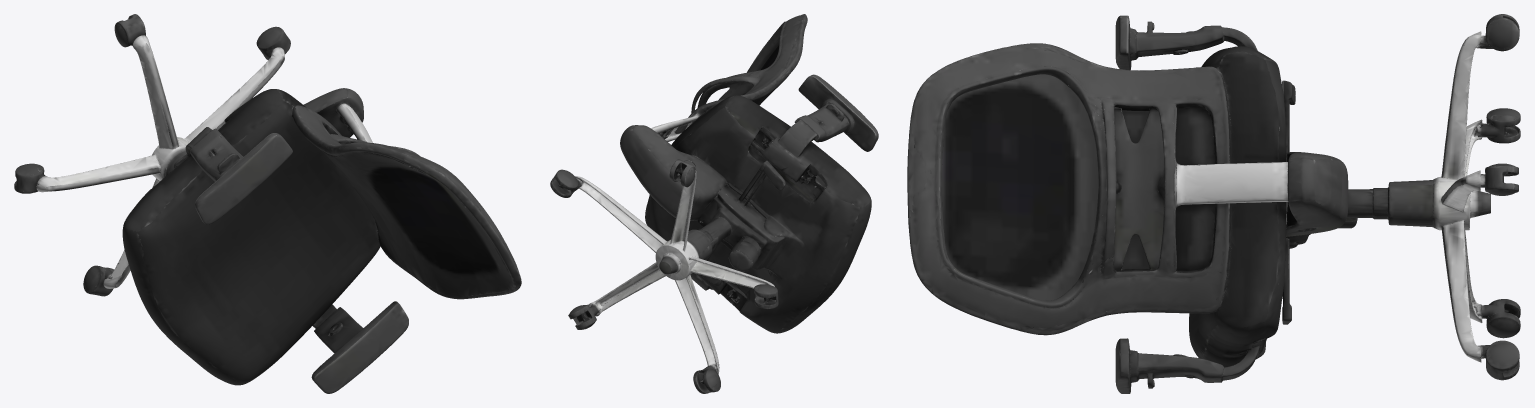
The picture shows the model from 3 angles, left to right: view 1: azimuth 30°, elevation 25°; view 2: azimuth 150°, elevation 25°; view 3: azimuth 270°, elevation 25°; orthographic projection. The views are drawn at different scales.
Parts seen in each view (by area): view 1: Mesh_0.011; view 2: Mesh_0.011; view 3: Mesh_0.011.
Boxes of the visible parts, bbox=[...] form: Mesh_0.011: bbox=[14, 14, 521, 393]; Mesh_0.011: bbox=[550, 14, 878, 393]; Mesh_0.011: bbox=[907, 14, 1520, 393].
Bounding box in the file's own units: 0.0212 × 0.0209 × 0.0323.
1 material, 1 textured.
